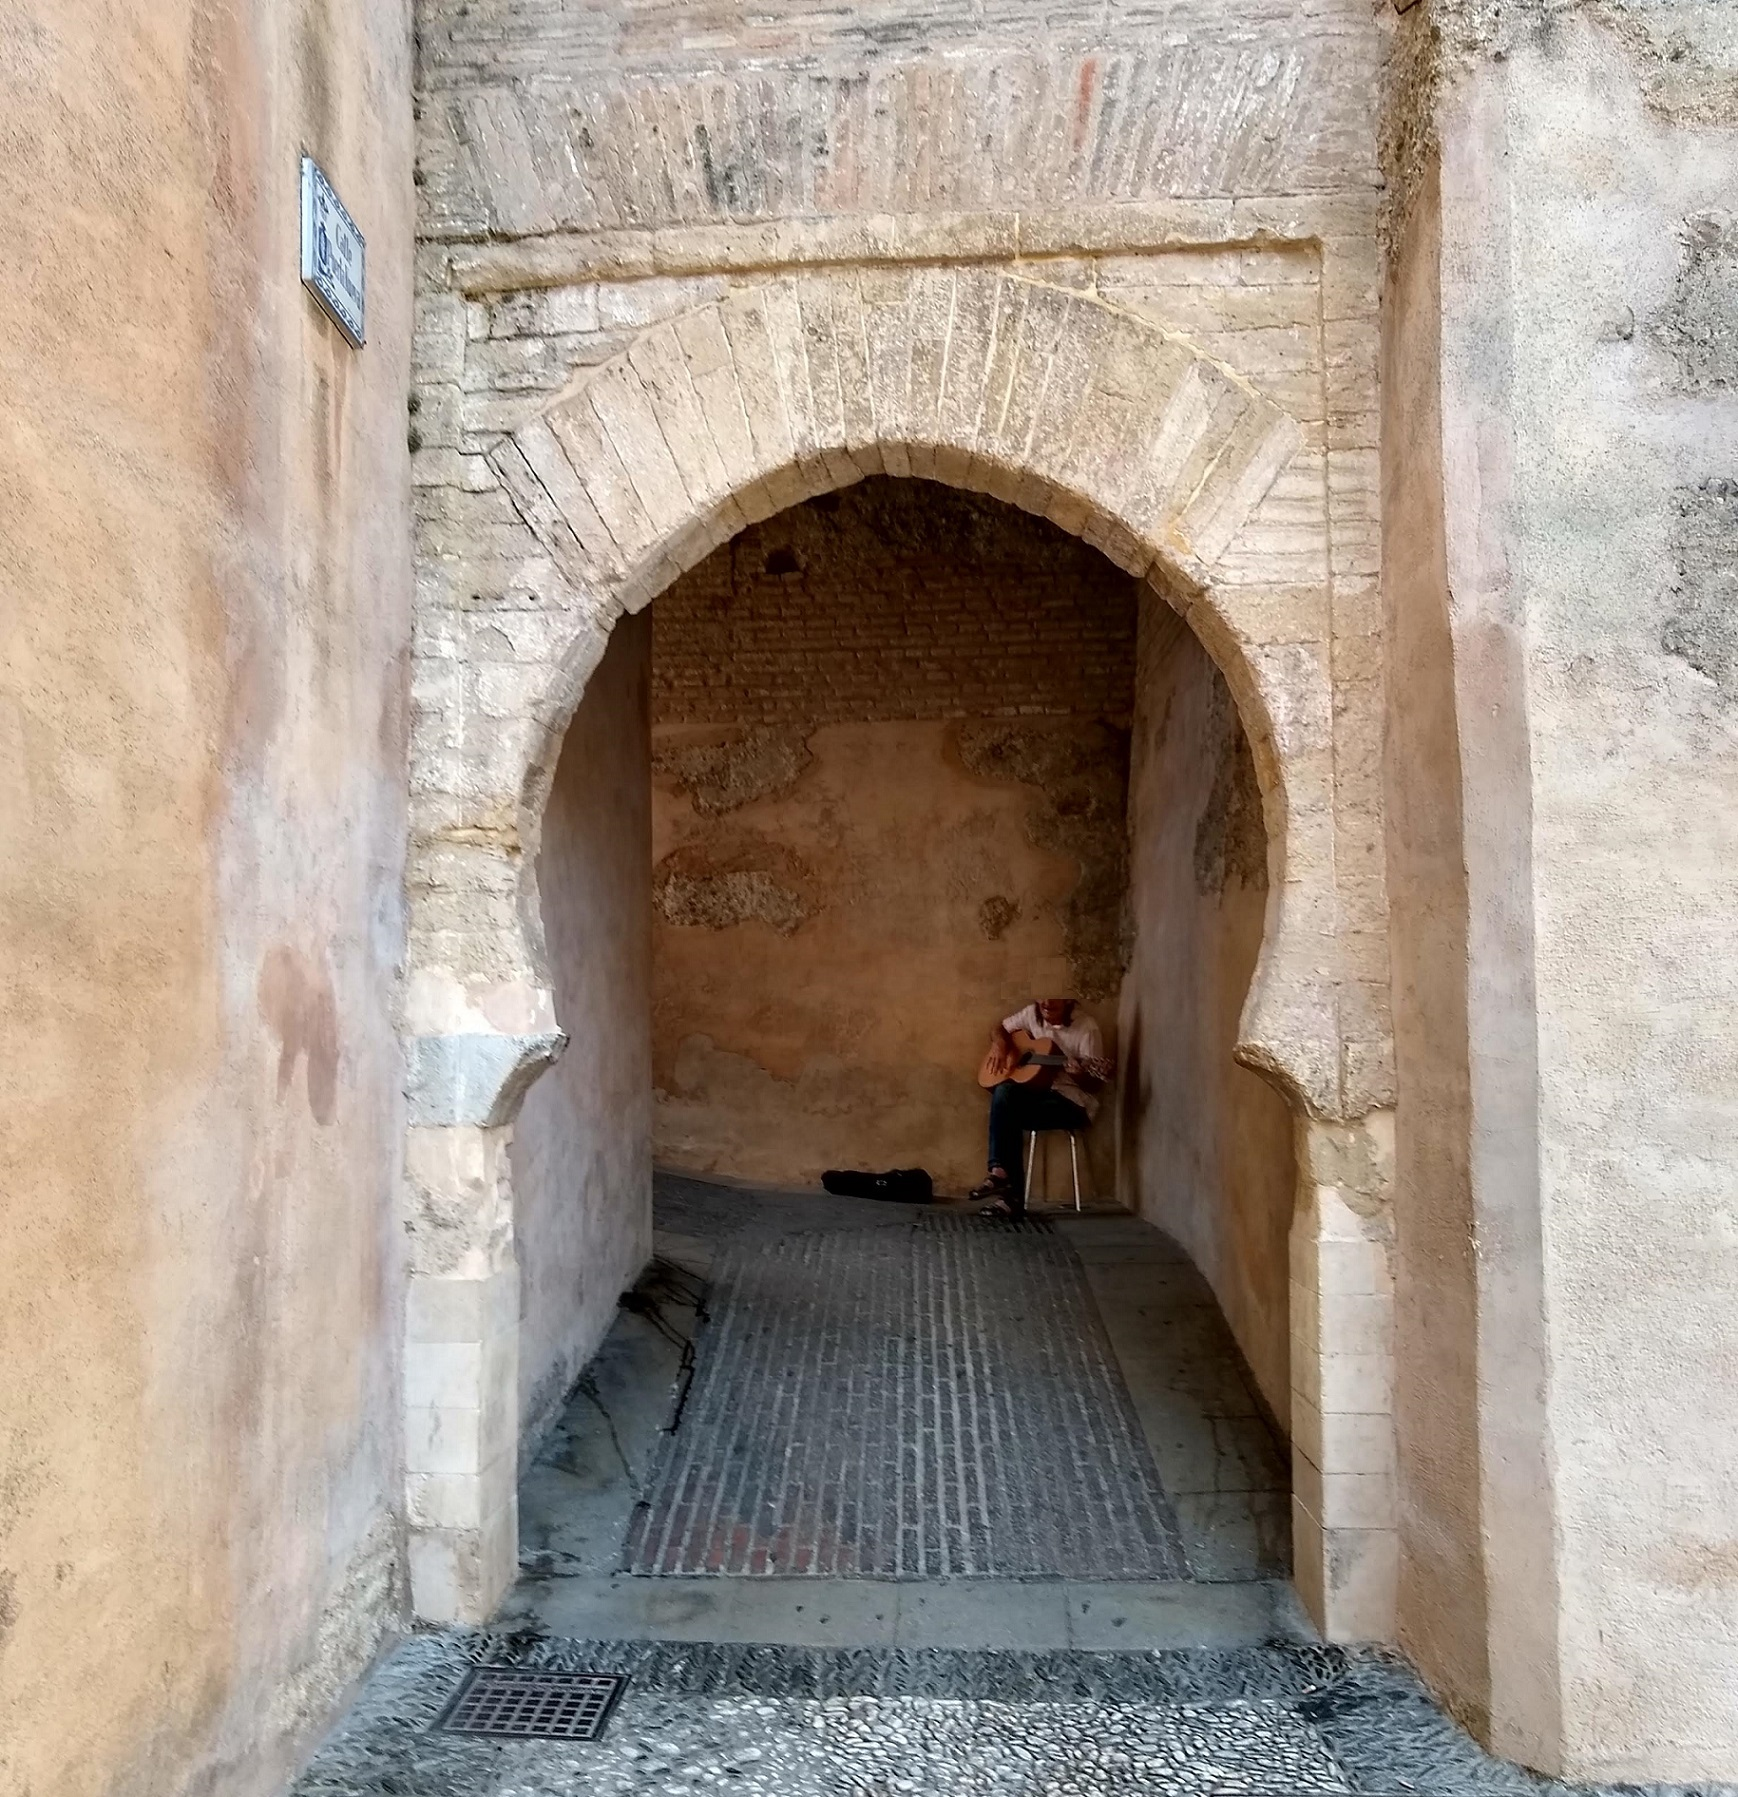arco-herradura: (446, 403, 1362, 1186)
